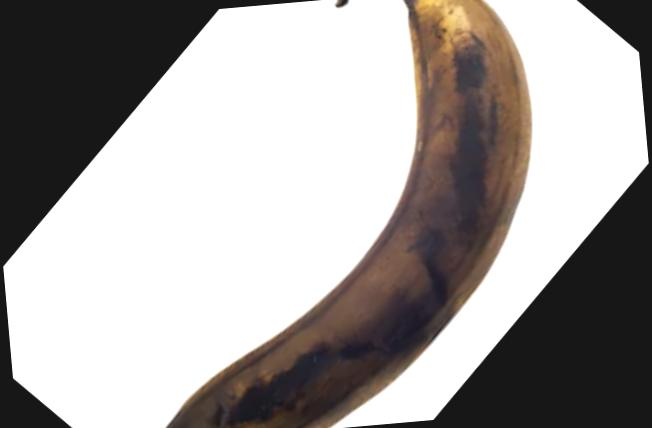Banana Overripe: (144, 0, 554, 428)
